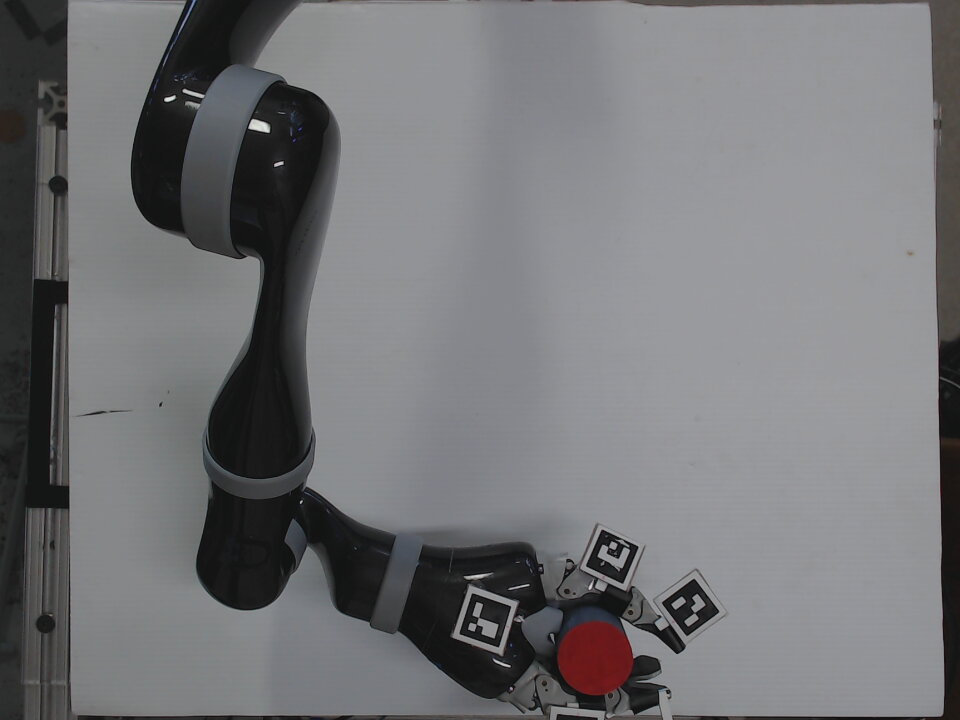cylinder: (553, 605, 637, 698)
